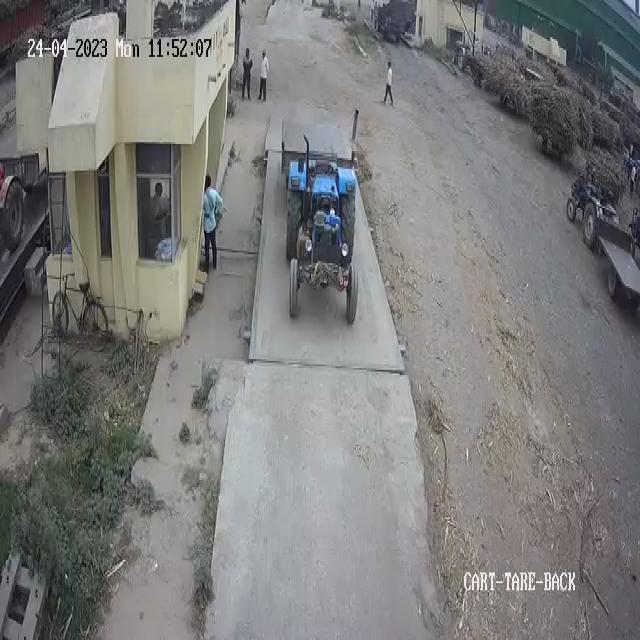Tratores - v5 YOLO V8L 2024-11-13: (284, 160, 361, 330), (566, 158, 614, 244)
